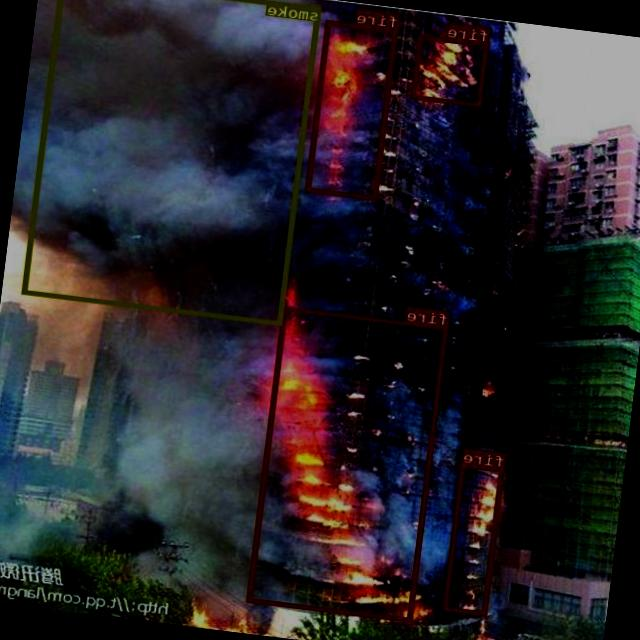fire: (247, 306, 449, 622), (306, 19, 399, 200), (443, 462, 506, 615), (412, 34, 489, 106)
smoke: (21, 0, 321, 325)
